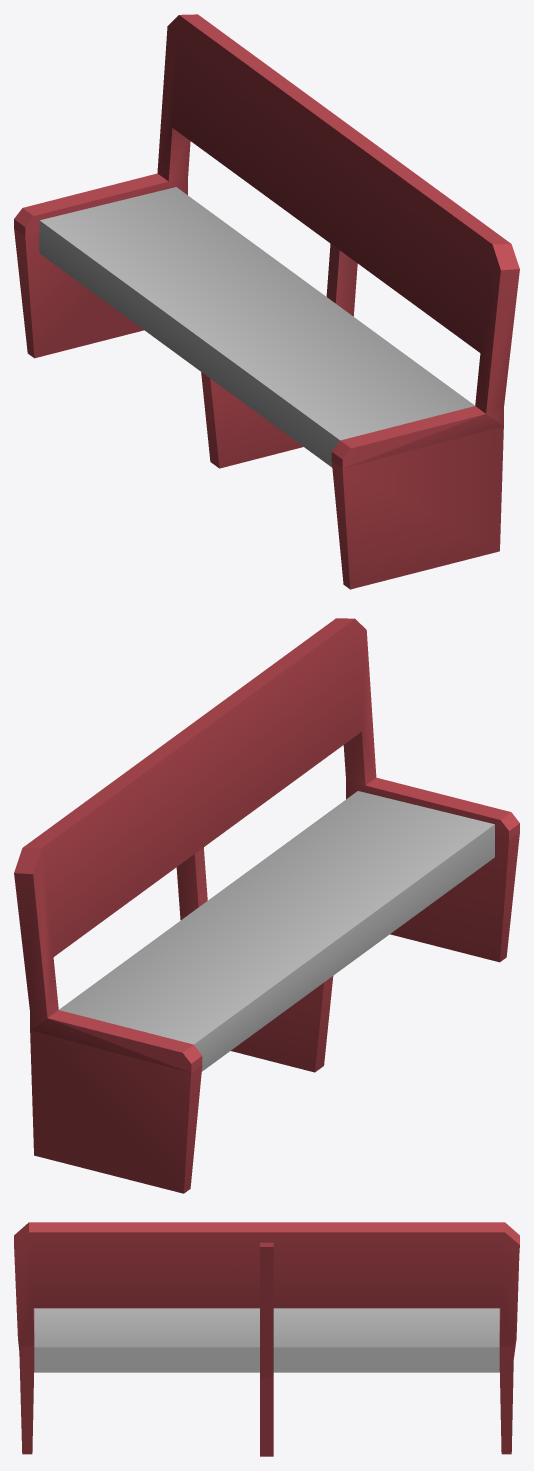
The picture shows the model from 3 angles, top to bottom: view 1: azimuth 30°, elevation 25°; view 2: azimuth 150°, elevation 25°; view 3: azimuth 270°, elevation 25°; orthographic projection. The views are drawn at different scales.
Parts seen in each view (by area): view 1: bench; view 2: bench; view 3: bench.
Part boxes in pixels (x1=…): bench: x1=14, y1=14, x2=519, y2=589; bench: x1=14, y1=618, x2=519, y2=1193; bench: x1=14, y1=1222, x2=519, y2=1456.
Bounding box in the file's own units: 0.6444 × 1.03 × 2.03.
